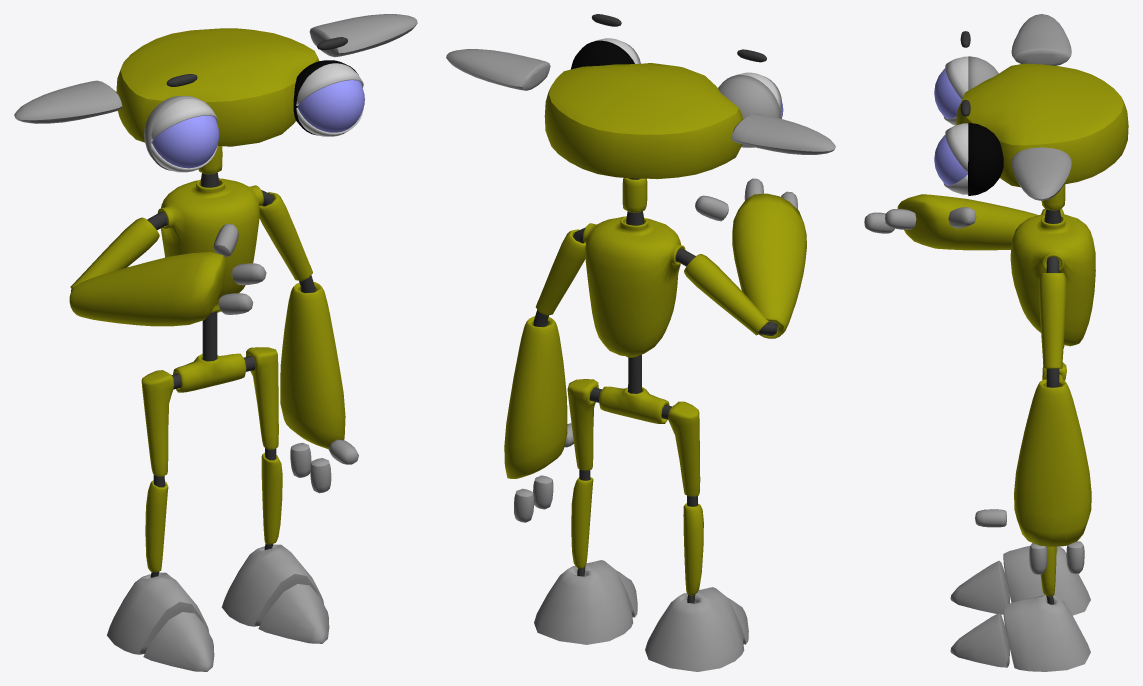
File: click1.obj
3 renders of one model, left to right at view 1: azimuth 30°, elevation 25°; view 2: azimuth 150°, elevation 25°; view 3: azimuth 270°, elevation 25°, orthographic. The views are drawn at different scales.
Parts seen in each view (by area): view 1: Mesh polySurface50, Mesh polySurface37, Mesh polySurface18, Mesh polySurface41, Mesh polySurface48, Mesh polySurface10, Mesh polySurface26, Mesh polySurface8, Mesh polySurface24, Mesh polySurface47, Mesh polySurface6, Mesh polySurface22 (+17 smaller); view 2: Mesh polySurface41, Mesh polySurface50, Mesh polySurface48, Mesh polySurface18, Mesh polySurface37, Mesh polySurface26, Mesh polySurface10, Mesh polySurface47, Mesh polySurface38, Mesh polySurface44, Mesh polySurface28, Mesh polySurface12 (+8 smaller); view 3: Mesh polySurface18, Mesh polySurface50, Mesh polySurface41, Mesh polySurface10, Mesh polySurface37, Mesh polySurface48, Mesh polySurface26, Mesh polySurface44, Mesh polySurface51, Mesh polySurface4, Mesh polySurface8, Mesh polySurface24 (+14 smaller).
Part boxes in pixels (x1=…): Mesh polySurface50: x1=120, y1=28, x2=317, y2=102; Mesh polySurface37: x1=69, y1=252, x2=225, y2=326; Mesh polySurface18: x1=280, y1=282, x2=345, y2=449; Mesh polySurface41: x1=157, y1=178, x2=263, y2=312; Mesh polySurface48: x1=116, y1=54, x2=319, y2=146; Mesh polySurface10: x1=221, y1=544, x2=323, y2=626; Mesh polySurface26: x1=107, y1=572, x2=208, y2=654; Mesh polySurface8: x1=258, y1=584, x2=329, y2=643; Mesh polySurface24: x1=143, y1=612, x2=214, y2=671; Mesh polySurface47: x1=14, y1=80, x2=122, y2=120; Mesh polySurface6: x1=297, y1=80, x2=364, y2=132; Mesh polySurface22: x1=152, y1=115, x2=219, y2=168; Mesh polySurface41: x1=583, y1=216, x2=685, y2=357; Mesh polySurface50: x1=549, y1=63, x2=738, y2=134; Mesh polySurface48: x1=544, y1=87, x2=742, y2=178; Mesh polySurface18: x1=504, y1=316, x2=567, y2=478; Mesh polySurface37: x1=732, y1=193, x2=806, y2=338; Mesh polySurface26: x1=645, y1=587, x2=744, y2=671; Mesh polySurface10: x1=534, y1=560, x2=633, y2=644; Mesh polySurface47: x1=731, y1=113, x2=835, y2=151; Mesh polySurface38: x1=684, y1=254, x2=769, y2=335; Mesh polySurface44: x1=446, y1=49, x2=548, y2=86; Mesh polySurface28: x1=668, y1=401, x2=700, y2=496; Mesh polySurface12: x1=567, y1=379, x2=598, y2=470; Mesh polySurface18: x1=1014, y1=379, x2=1091, y2=546; Mesh polySurface50: x1=960, y1=63, x2=1123, y2=145; Mesh polySurface41: x1=1010, y1=214, x2=1095, y2=347; Mesh polySurface10: x1=1003, y1=594, x2=1090, y2=671; Mesh polySurface37: x1=897, y1=194, x2=1038, y2=250; Mesh polySurface48: x1=956, y1=97, x2=1128, y2=187; Mesh polySurface26: x1=1003, y1=546, x2=1090, y2=615; Mesh polySurface44: x1=1011, y1=147, x2=1071, y2=199; Mesh polySurface51: x1=1038, y1=273, x2=1066, y2=368; Mesh polySurface4: x1=968, y1=123, x2=1003, y2=195; Mesh polySurface8: x1=950, y1=613, x2=1007, y2=667; Mesh polySurface24: x1=950, y1=561, x2=1005, y2=614.
Size of the model in its own units: 10.05 by 14.23 by 6.11.
